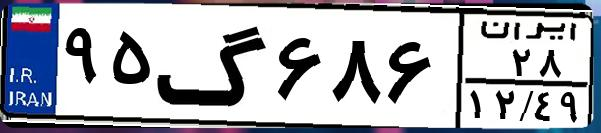1: (470, 70, 495, 125)
2: (508, 27, 537, 80), (495, 70, 520, 125)
4: (535, 70, 560, 125)
5: (110, 28, 156, 98)
6: (270, 28, 330, 110), (385, 28, 445, 110)
8: (330, 28, 385, 110), (537, 27, 568, 80)
9: (57, 26, 110, 100), (560, 70, 590, 125)
گ: (156, 12, 270, 120)
